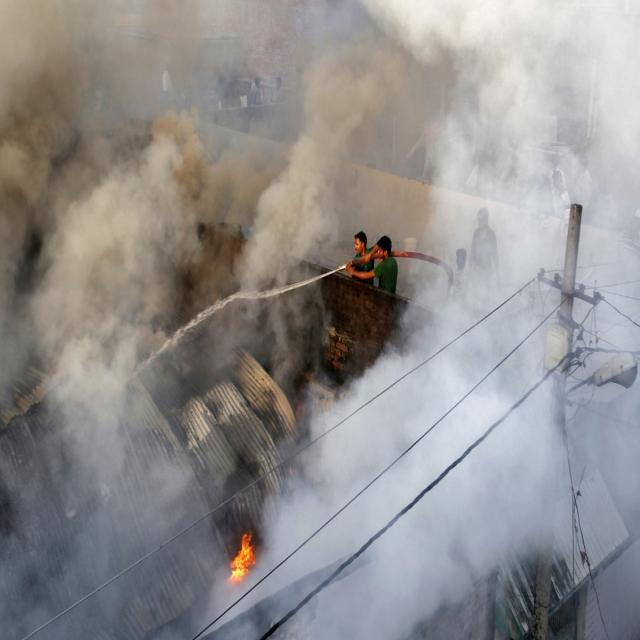Smoke: (0, 5, 192, 640), (444, 8, 640, 560), (281, 368, 441, 640), (210, 66, 405, 246)
